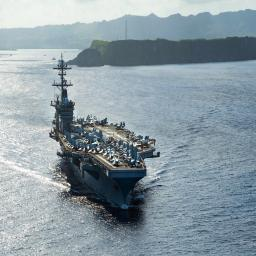Portanaves: (50, 53, 162, 213)
